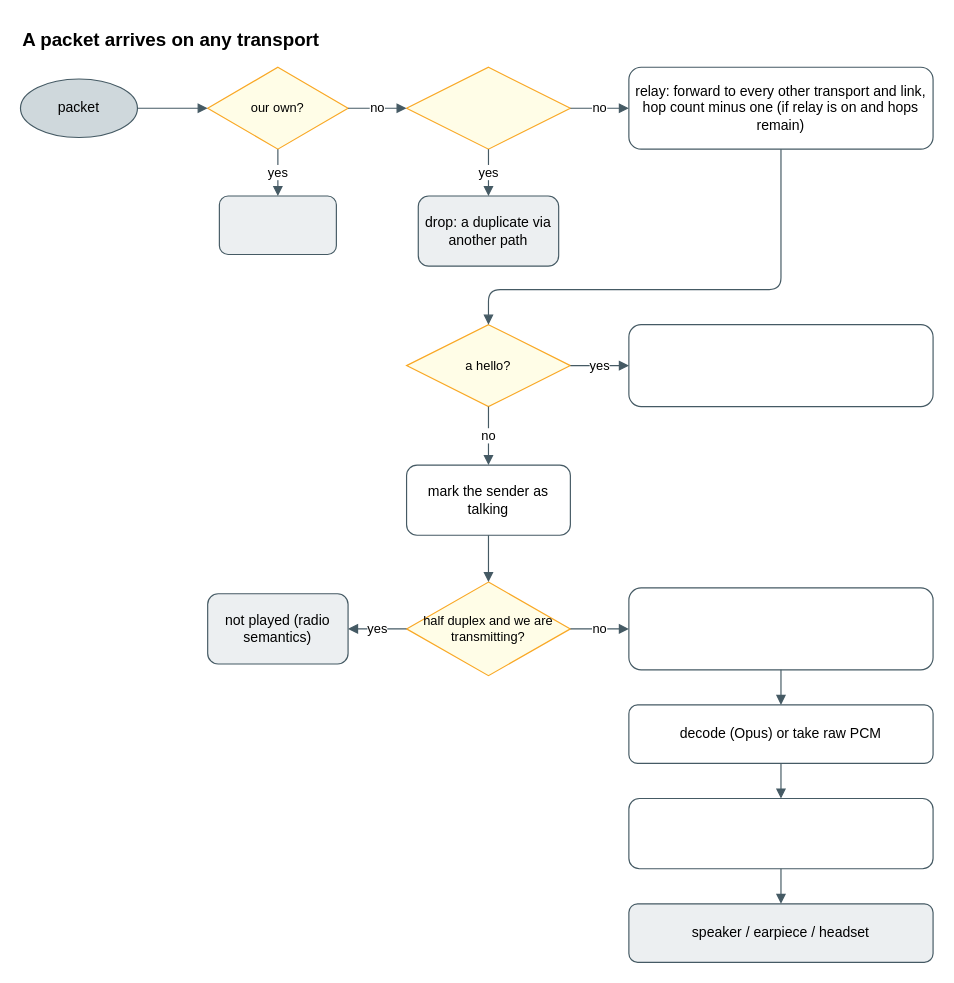
Some shapes in this 954 by 983 pixel diagram are drawn without their labels. Each missing label, with the centre of its shape:
drop: the point at 277,224
gap in the sender's numbers? reserve up to 3 slots to conceal: the point at 780,628
mixer: queue per talker, summed, missing slots faded from the last frame: the point at 780,833
seen before? (kind, sender, number): the point at 487,107
update the roster: name, transports, hops, seen now: the point at 780,365
